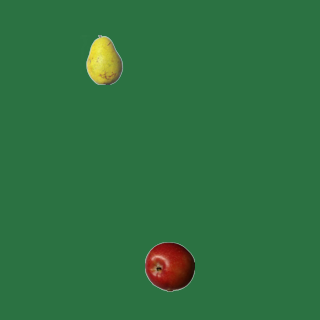Apple Braeburn: (144, 241, 194, 291)
Pear Monster: (79, 34, 129, 84)
